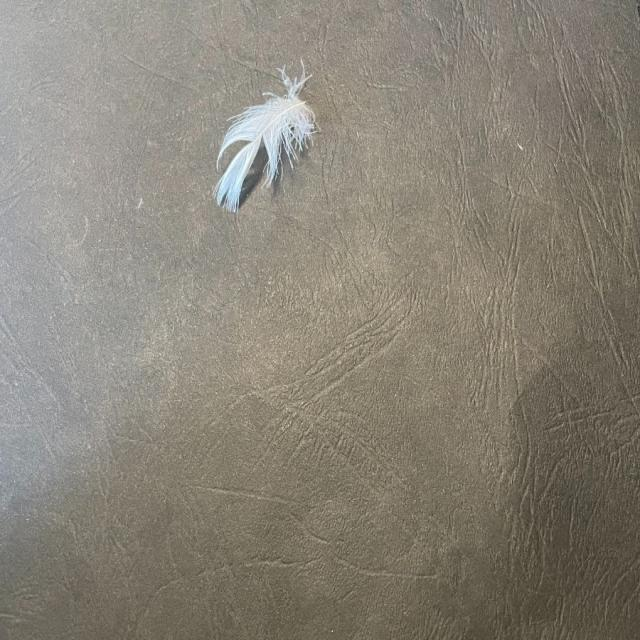feather: (210, 56, 318, 214)
